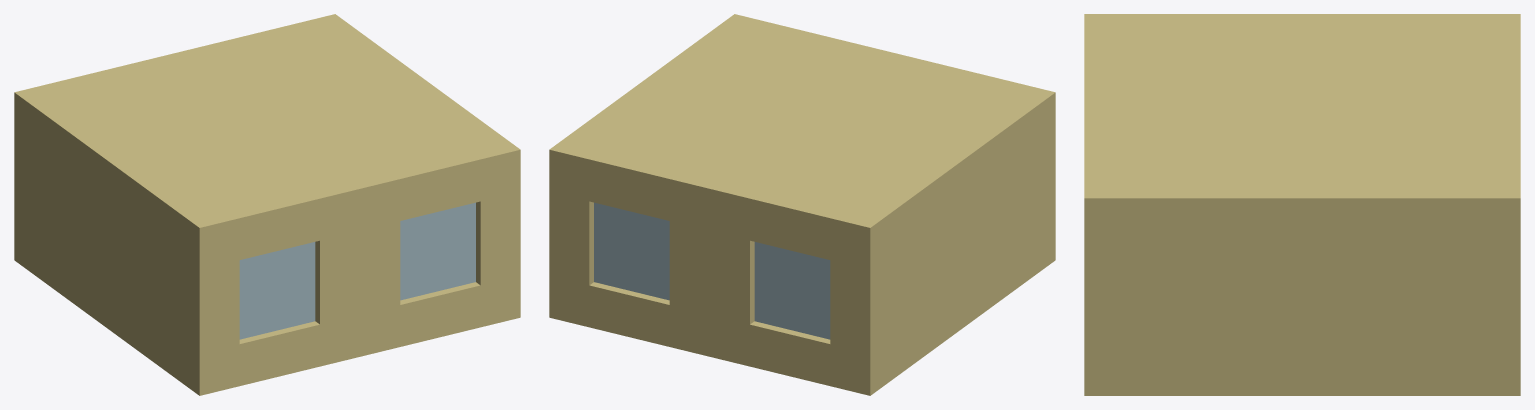
Rendered from building.fbx.
The picture shows the model from 3 angles, left to right: view 1: azimuth 30°, elevation 25°; view 2: azimuth 150°, elevation 25°; view 3: azimuth 270°, elevation 25°; orthographic projection. The views are drawn at different scales.
Visible parts, largest first — view 1: Floor; view 2: Floor; view 3: Floor.
Part boxes in pixels (x1,y1,x2,y2): Floor: (14, 14, 520, 395); Floor: (549, 14, 1055, 395); Floor: (1084, 14, 1520, 395).
Size of the model in its own units: 800 by 400 by 800.
